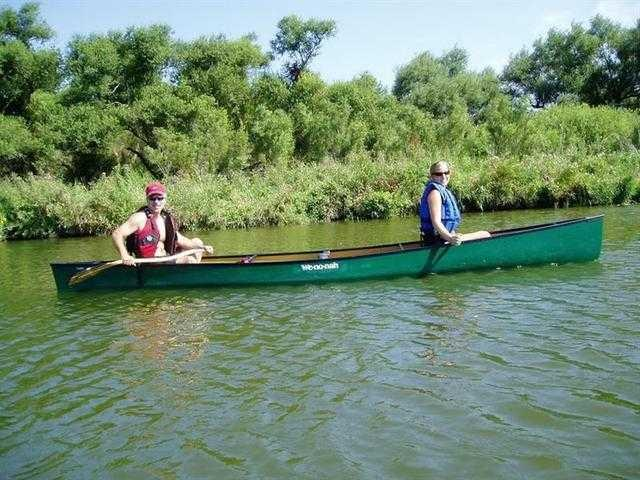kayak: (53, 216, 605, 288)
